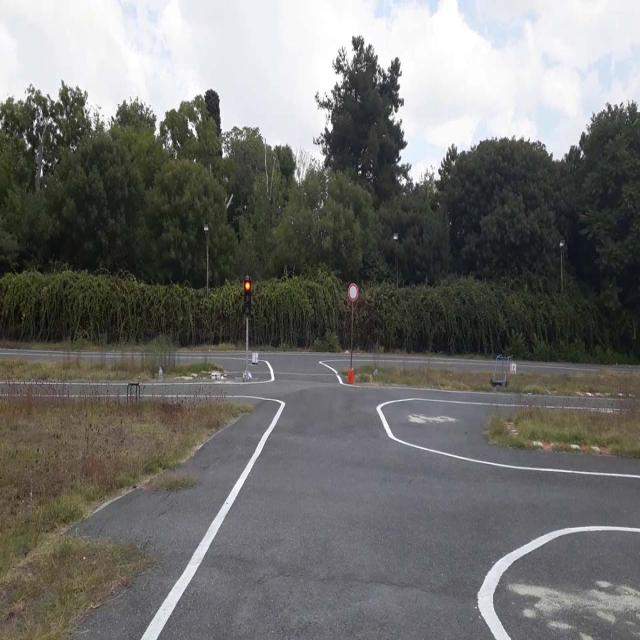kirmizi: (245, 279, 251, 314)
